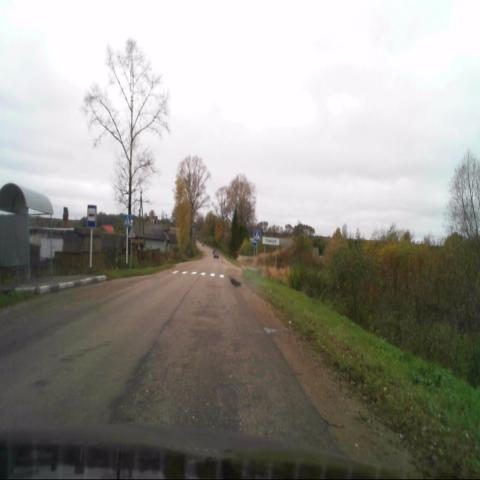5_16: (86, 204, 96, 229)
5_19_1: (253, 229, 260, 241), (124, 214, 130, 226)
